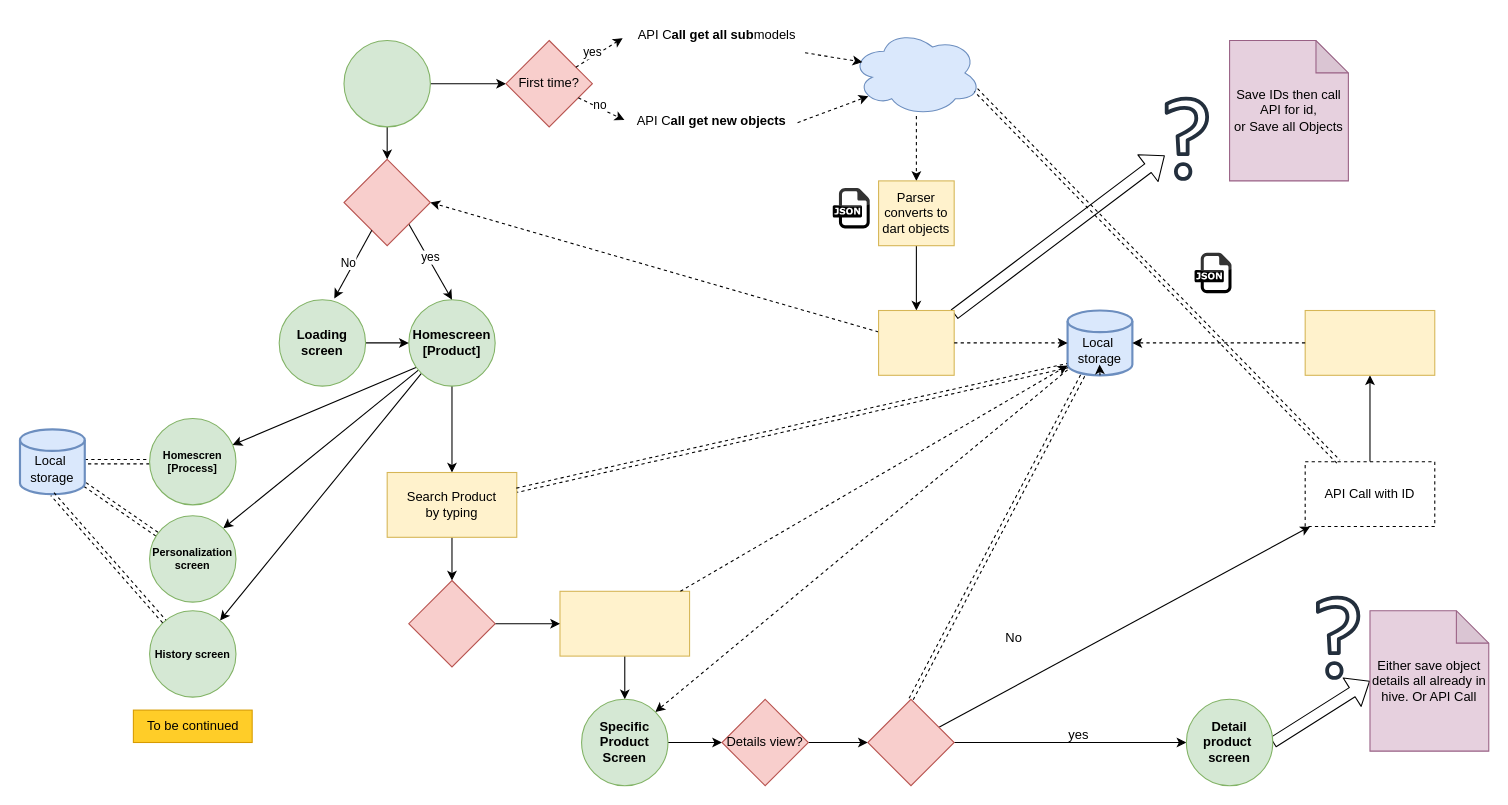
Some shapes in this 1508 by 805 pixel diagram are drawn without their labels. Here are the shapes that lost their labels. From the top down, the centre of each, then its label:
(x=386, y=83): App start
(x=915, y=72): DPP Server
(x=386, y=202): Loaded?
(x=916, y=342): Objects saved in hive
(x=1369, y=342): Parser
(x=451, y=623): Product found
(x=624, y=623): Save "search history"
(x=910, y=742): Details avaiable?
